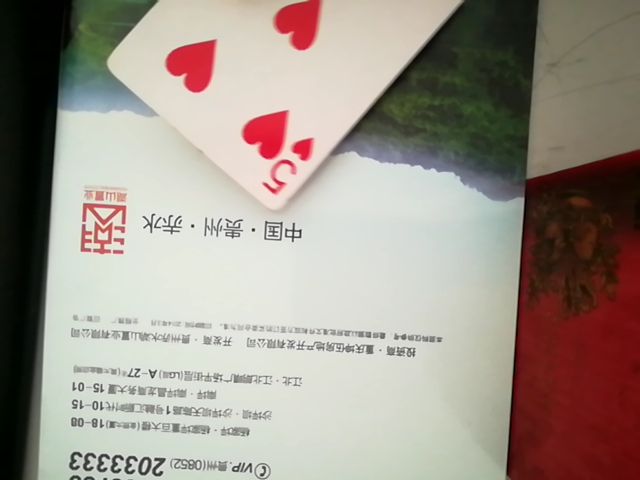hx 5: (89, 0, 504, 211)
